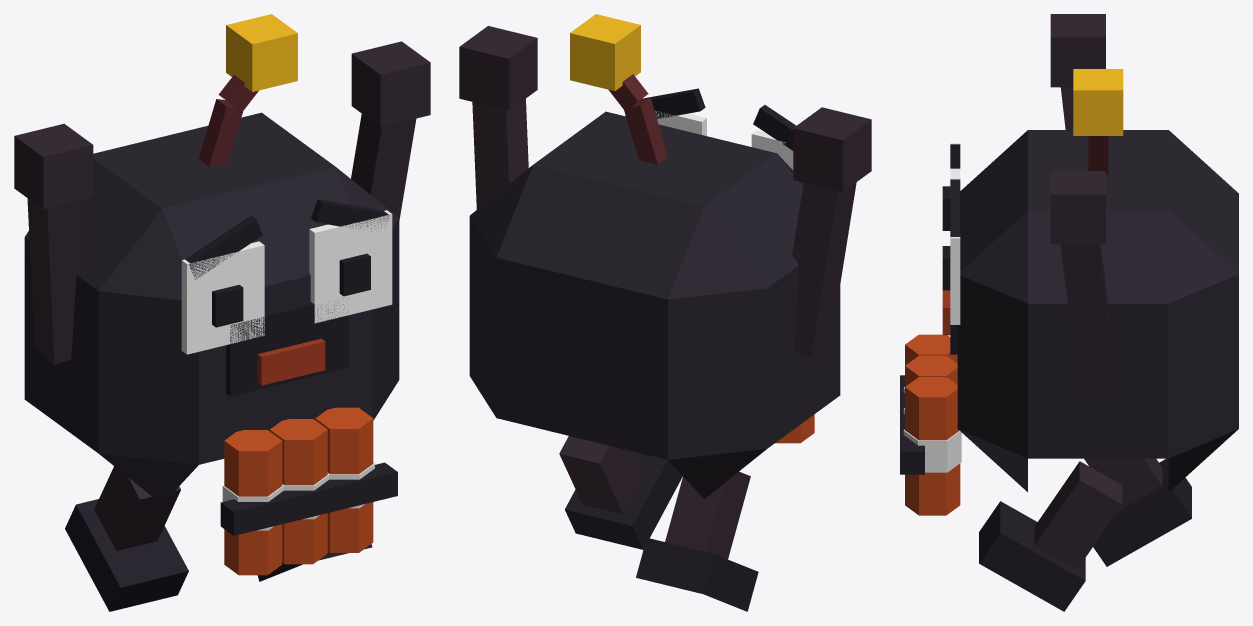
The model's file is kamikaze_r3.glb.
The picture shows the model from 3 angles, left to right: view 1: azimuth 30°, elevation 25°; view 2: azimuth 150°, elevation 25°; view 3: azimuth 270°, elevation 25°; orthographic projection. The views are drawn at different scales.
Visible parts, largest first — view 1: kamikaze_r3_mesh; view 2: kamikaze_r3_mesh; view 3: kamikaze_r3_mesh.
Part boxes in pixels (<box>): kamikaze_r3_mesh: <box>14,14,430,611</box>; kamikaze_r3_mesh: <box>459,14,871,611</box>; kamikaze_r3_mesh: <box>900,14,1238,611</box>.
Bounding box in the file's own units: 0.8113 × 1.1 × 0.6443.
Materials: 1 (1 with a texture image).
